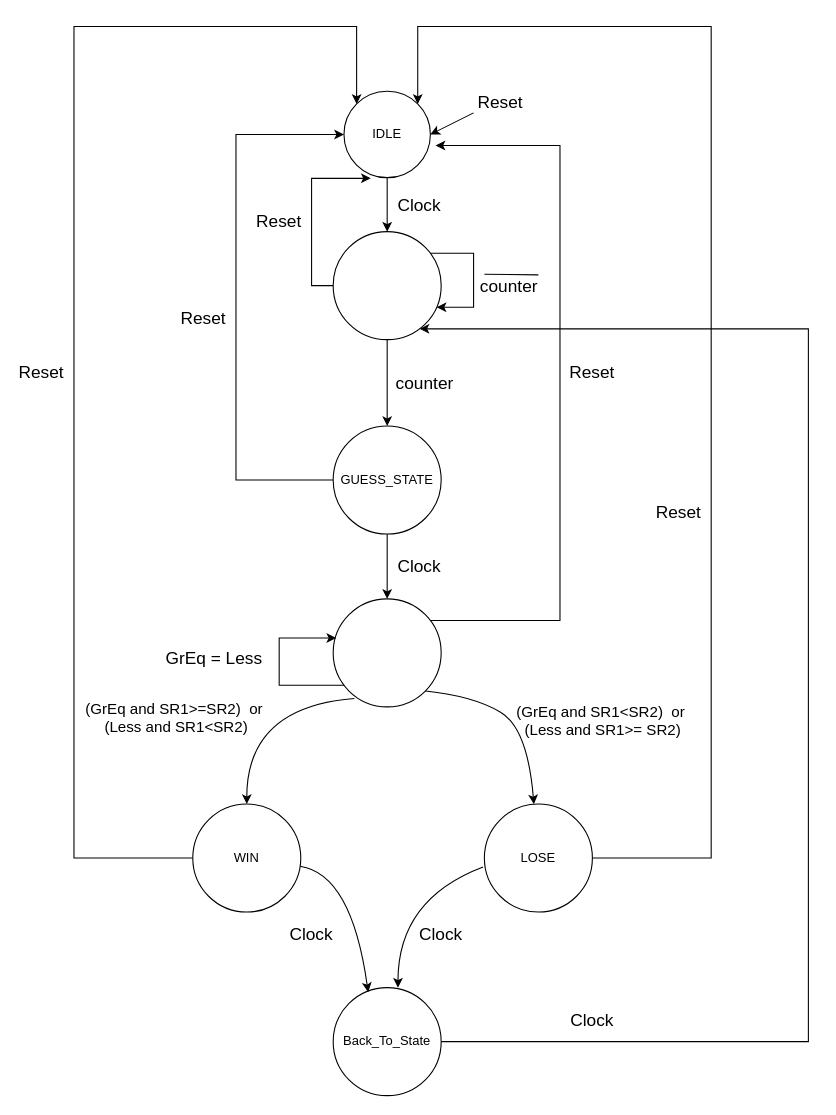
This 836x1115 diagram has some shape labels left out. Each missing label, with the centre of its shape:
LOAD_VALUES: (x=386, y=285)
WinOrLose: (x=386, y=652)
